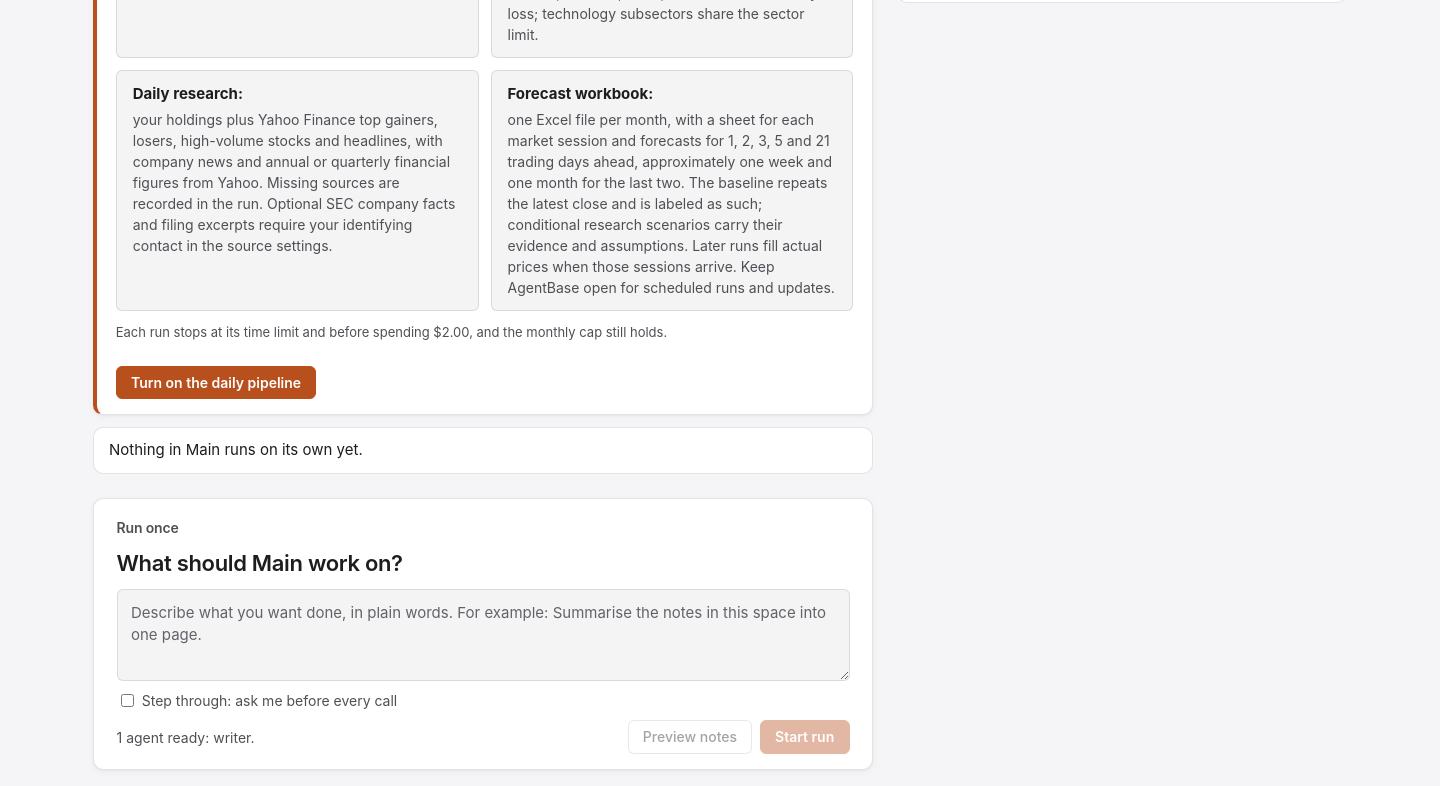
working on its own › turns the shipped pipeline on in one click, writing only the files that are missing
(page scrolled)
Click the button with test id "pipeline-turn-on" at x=216, y=383, box [116, 366, 316, 400]
(page scrolled)
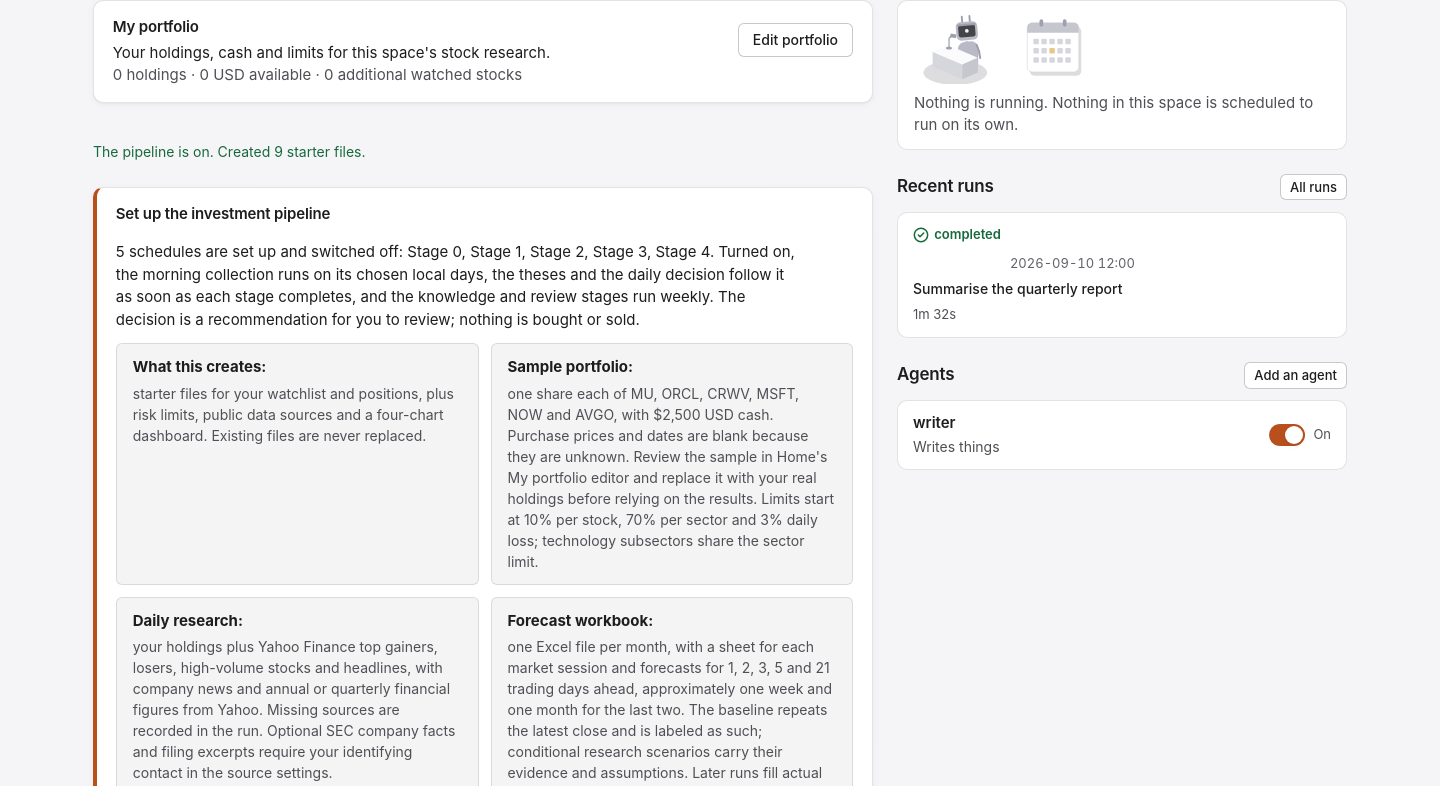
Result: the message shows "The pipeline is on" at [93, 143, 366, 160]
